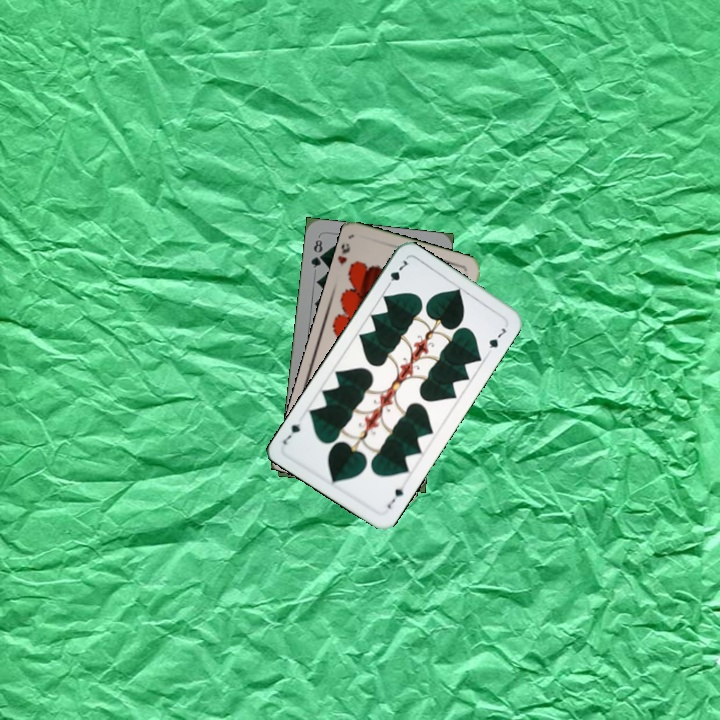G7: (382, 256, 412, 291), (383, 484, 406, 511)
G8: (307, 235, 325, 271)
H9: (335, 239, 353, 267)
